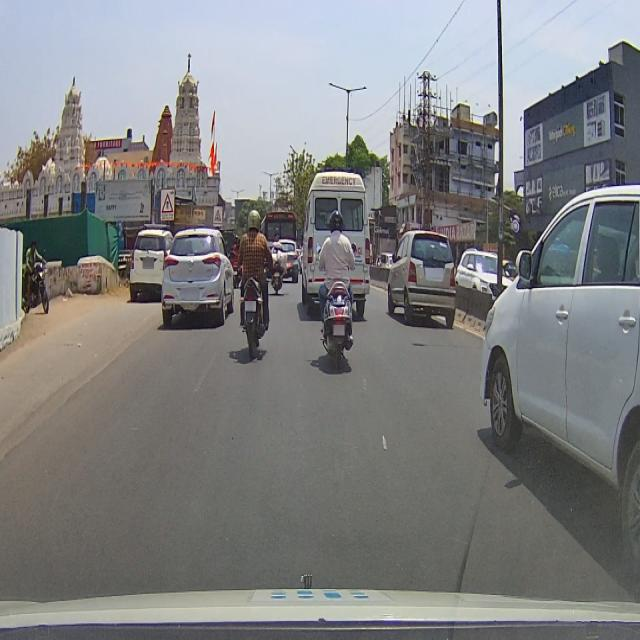car ahead at: (486, 182, 640, 552), (157, 231, 230, 330), (387, 225, 459, 324)
motorcycle ahead at: (234, 270, 272, 356), (316, 280, 356, 359)
